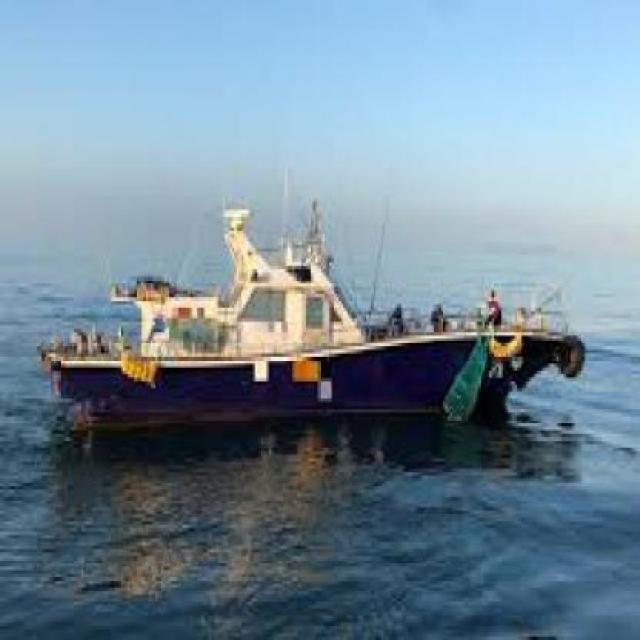fish-b: (22, 184, 602, 467)
